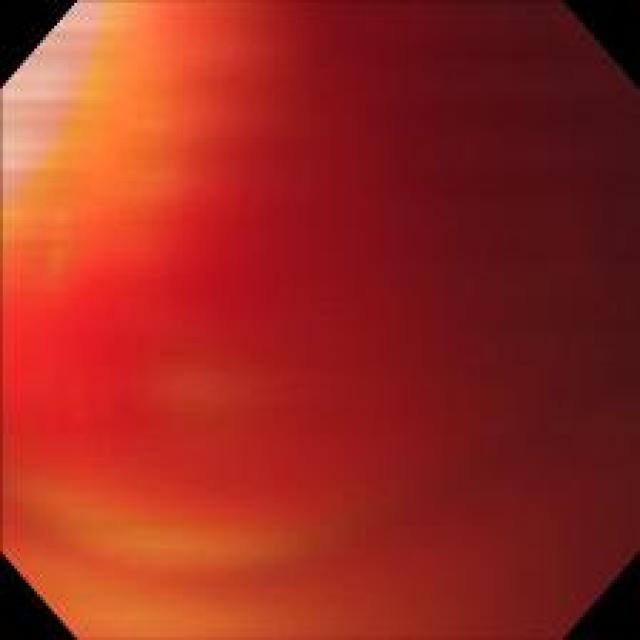color misalignment: (4, 18, 621, 631)
